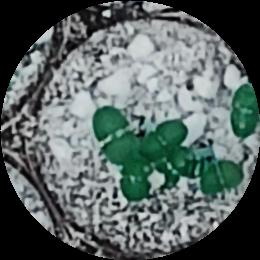Basil: (91, 107, 137, 167), (139, 117, 191, 161), (231, 83, 260, 138), (202, 161, 245, 195), (122, 163, 149, 198)
